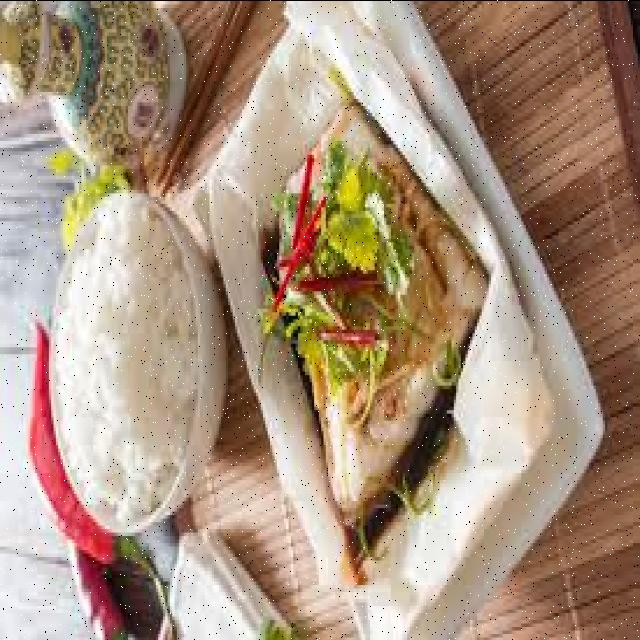Fish: (310, 108, 486, 514), (289, 171, 300, 192)
Rice: (51, 196, 195, 532)
